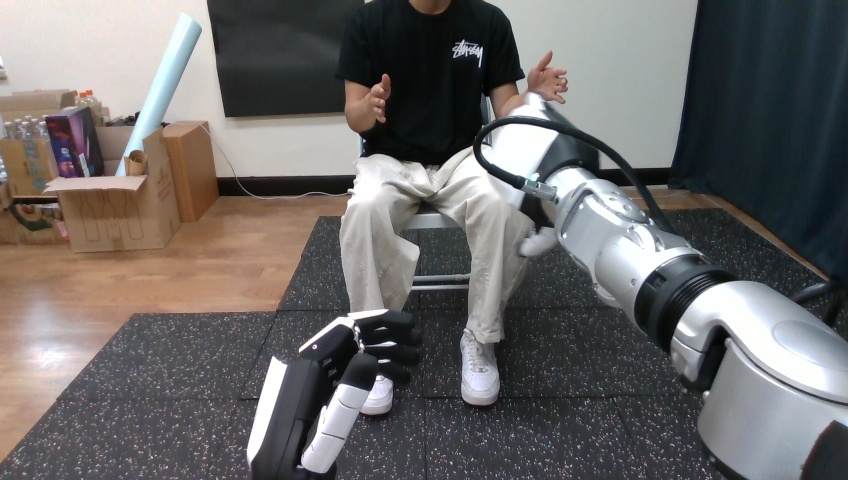left robot hand: (473, 94, 847, 478), (247, 309, 420, 478), (527, 51, 567, 103)
